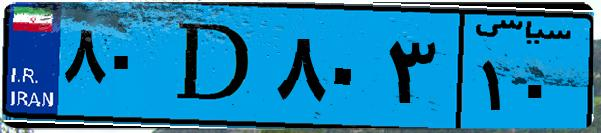0: (330, 28, 385, 110), (525, 38, 570, 115), (110, 28, 158, 98)
1: (475, 38, 525, 113)
3: (385, 28, 445, 110)
8: (270, 28, 330, 110), (57, 26, 110, 100)
D: (158, 12, 270, 120)
